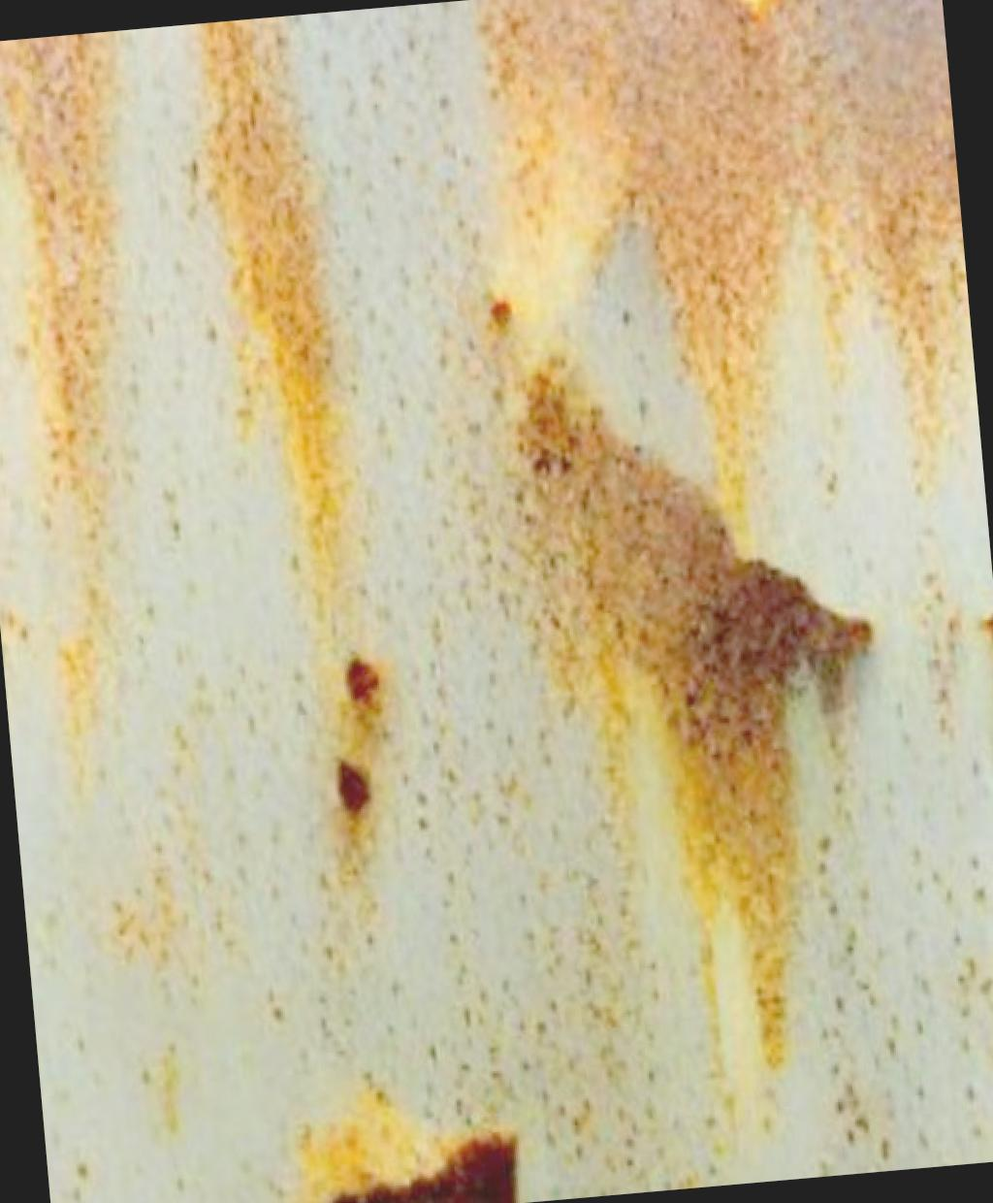corrosion: (467, 264, 916, 1096), (479, 0, 984, 519), (193, 13, 374, 614), (0, 30, 175, 605), (309, 1118, 529, 1203), (318, 639, 403, 839)
